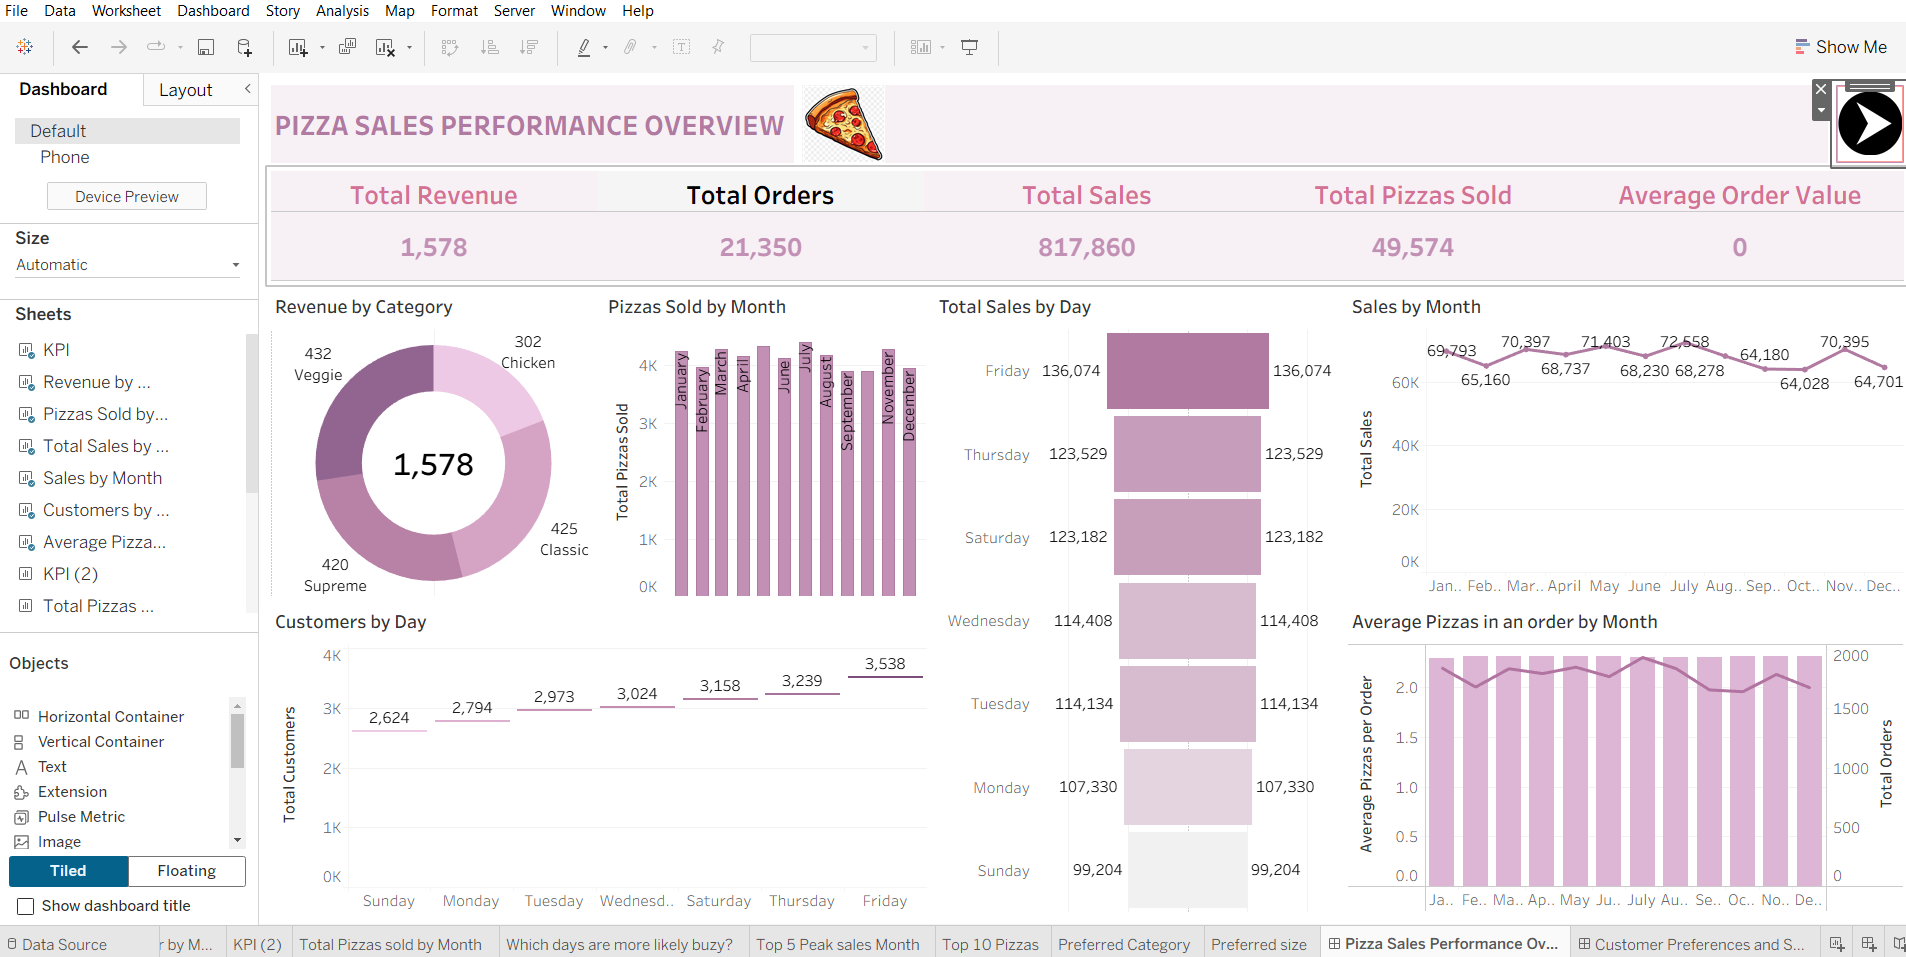

The page's visual inventory and layout, read from the dashboard file:
{"tool":"tableau","page":{"name":"Pizza Sales Performance Overview","canvas":[1000,1000],"units":"permille","ordinal":1},"visuals":[{"type":"text","box":[4.8,9.4,320.4,101]},{"type":"image","param":"Image/pizza.jpg","box":[325.3,9.4,624,101]},{"type":"dashboard-object","box":[949.3,9.4,45.9,101]},{"type":"worksheet","title":"KPI","mark":"Automatic","box":[4.8,110.5,990.3,138.6]},{"type":"worksheet","title":"Revenue by Category","mark":"Pie","cols":["Calculation_0497037388877837","Calculation_0497037388877837"],"box":[4.8,249.1,201.2,370.8]},{"type":"worksheet","title":"Pizzas Sold by Month","mark":"Bar","rows":["Calculation_0497037380210692"],"cols":["date"],"box":[206.1,249.1,199.4,370.8]},{"type":"worksheet","title":"Total Sales by Day","mark":"Bar","rows":["Calculation_0497037385601036"],"cols":["Calculation_0497037392048143","Calculation_0497037379809283"],"box":[405.5,249.1,249.3,741.5]},{"type":"worksheet","title":"Sales by Month","mark":"Line","rows":["Calculation_0497037379809283"],"cols":["date"],"box":[654.8,249.1,340.4,370.8]},{"type":"worksheet","title":"Customers by Day","mark":"GanttBar","rows":["Calculation_0497037380567046"],"cols":["Calculation_0497037385601036"],"box":[4.8,619.8,400.7,370.8]},{"type":"worksheet","title":"Average Pizzas in an order by Month","mark":"Bar","rows":["Calculation_0497037381672970","Calculation_0497037380317189"],"cols":["date"],"box":[654.8,619.8,340.4,370.8]}]}

Visuals, with their boxes on the dashboard's canvas, which has no fixed pixel size, in thousandths of its width and height (x1, y1, x2, y2). These are canvas units, not pixel positions in the 1906x957 screenshot, which may show the page scaled, cropped or inside an application window:
text: 5 9 325 110
image: 325 9 949 110
dashboard-object: 949 9 995 110
"KPI" worksheet: 5 110 995 249
"Revenue by Category" worksheet (Pie marks): 5 249 206 620
"Pizzas Sold by Month" worksheet (Bar marks): 206 249 406 620
"Total Sales by Day" worksheet (Bar marks): 406 249 655 991
"Sales by Month" worksheet (Line marks): 655 249 995 620
"Customers by Day" worksheet (GanttBar marks): 5 620 406 991
"Average Pizzas in an order by Month" worksheet (Bar marks): 655 620 995 991
